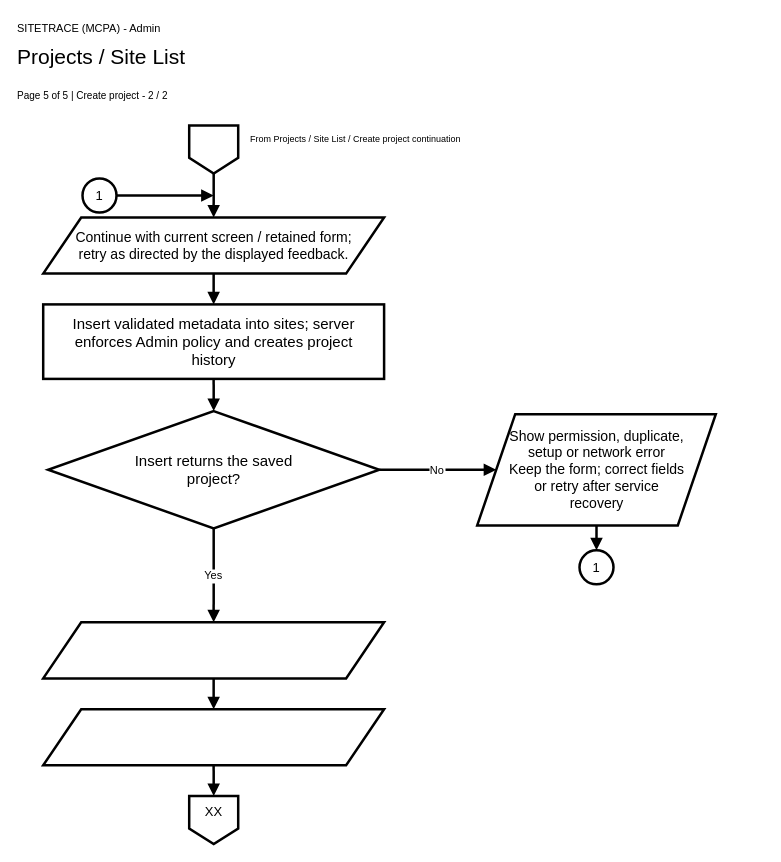
Image size: 781x862. Some labels were removed from this diagram. The shapes that lost their labels are listed below. From the top down, each one's box as (x1, y1, x2, y2) in pixels, then its label:
(188, 124, 239, 174): CV
(42, 621, 385, 679): Select saved project; update list; close form; display creation success
(42, 708, 385, 766): New project metadata and corresponding history are recorded.
